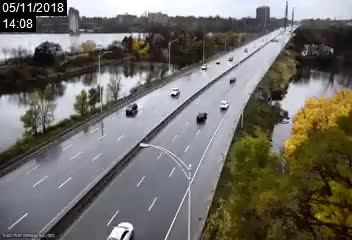personal_car: (107, 222, 134, 240), (124, 102, 139, 115), (195, 110, 208, 125), (219, 99, 229, 112), (169, 87, 181, 97), (228, 75, 237, 84), (200, 63, 208, 70)
